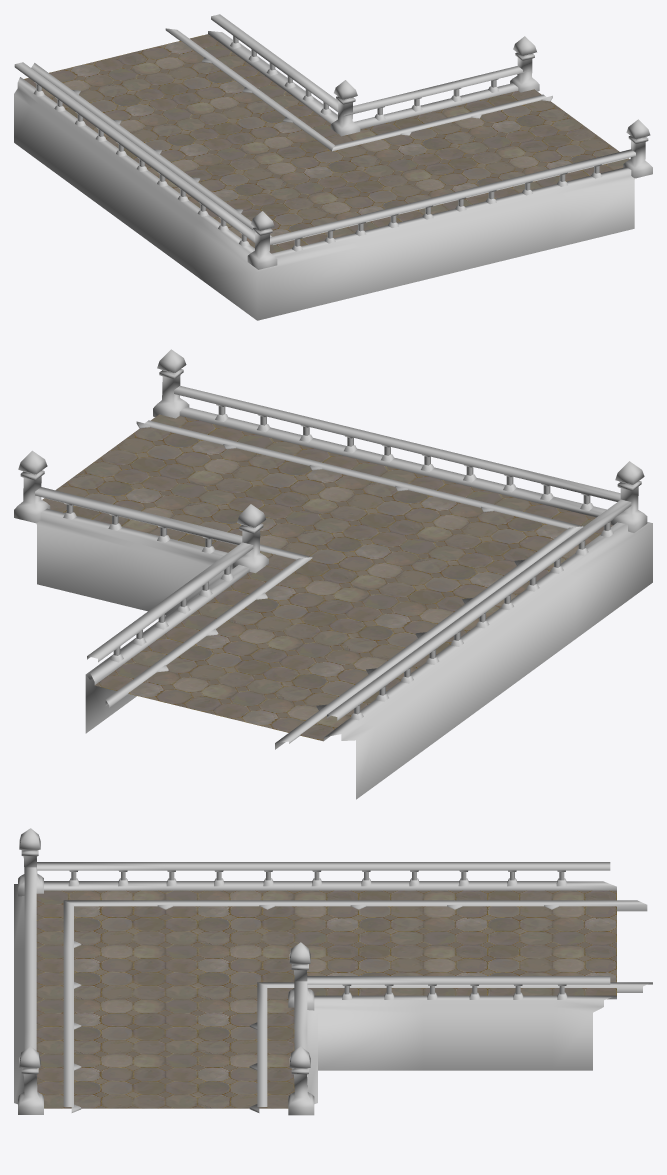
The model's file is t_pngtai04.FBX.
3 renders of one model, top to bottom at view 1: azimuth 30°, elevation 25°; view 2: azimuth 150°, elevation 25°; view 3: azimuth 270°, elevation 25°, orthographic. The views are drawn at different scales.
Visible parts, largest first — view 1: t_pngtai04_qiang, t_pngtai04_dimian; view 2: t_pngtai04_dimian, t_pngtai04_qiang; view 3: t_pngtai04_dimian, t_pngtai04_qiang.
Boxes of the visible parts, box(x1,y1,x2,y2) form: t_pngtai04_qiang: box(14, 14, 652, 320); t_pngtai04_dimian: box(24, 34, 629, 253); t_pngtai04_dimian: box(42, 414, 612, 741); t_pngtai04_qiang: box(14, 349, 652, 799); t_pngtai04_dimian: box(36, 890, 616, 1108); t_pngtai04_qiang: box(14, 828, 652, 1115).
Size of the model in its own units: 2565 by 625 by 2990.
